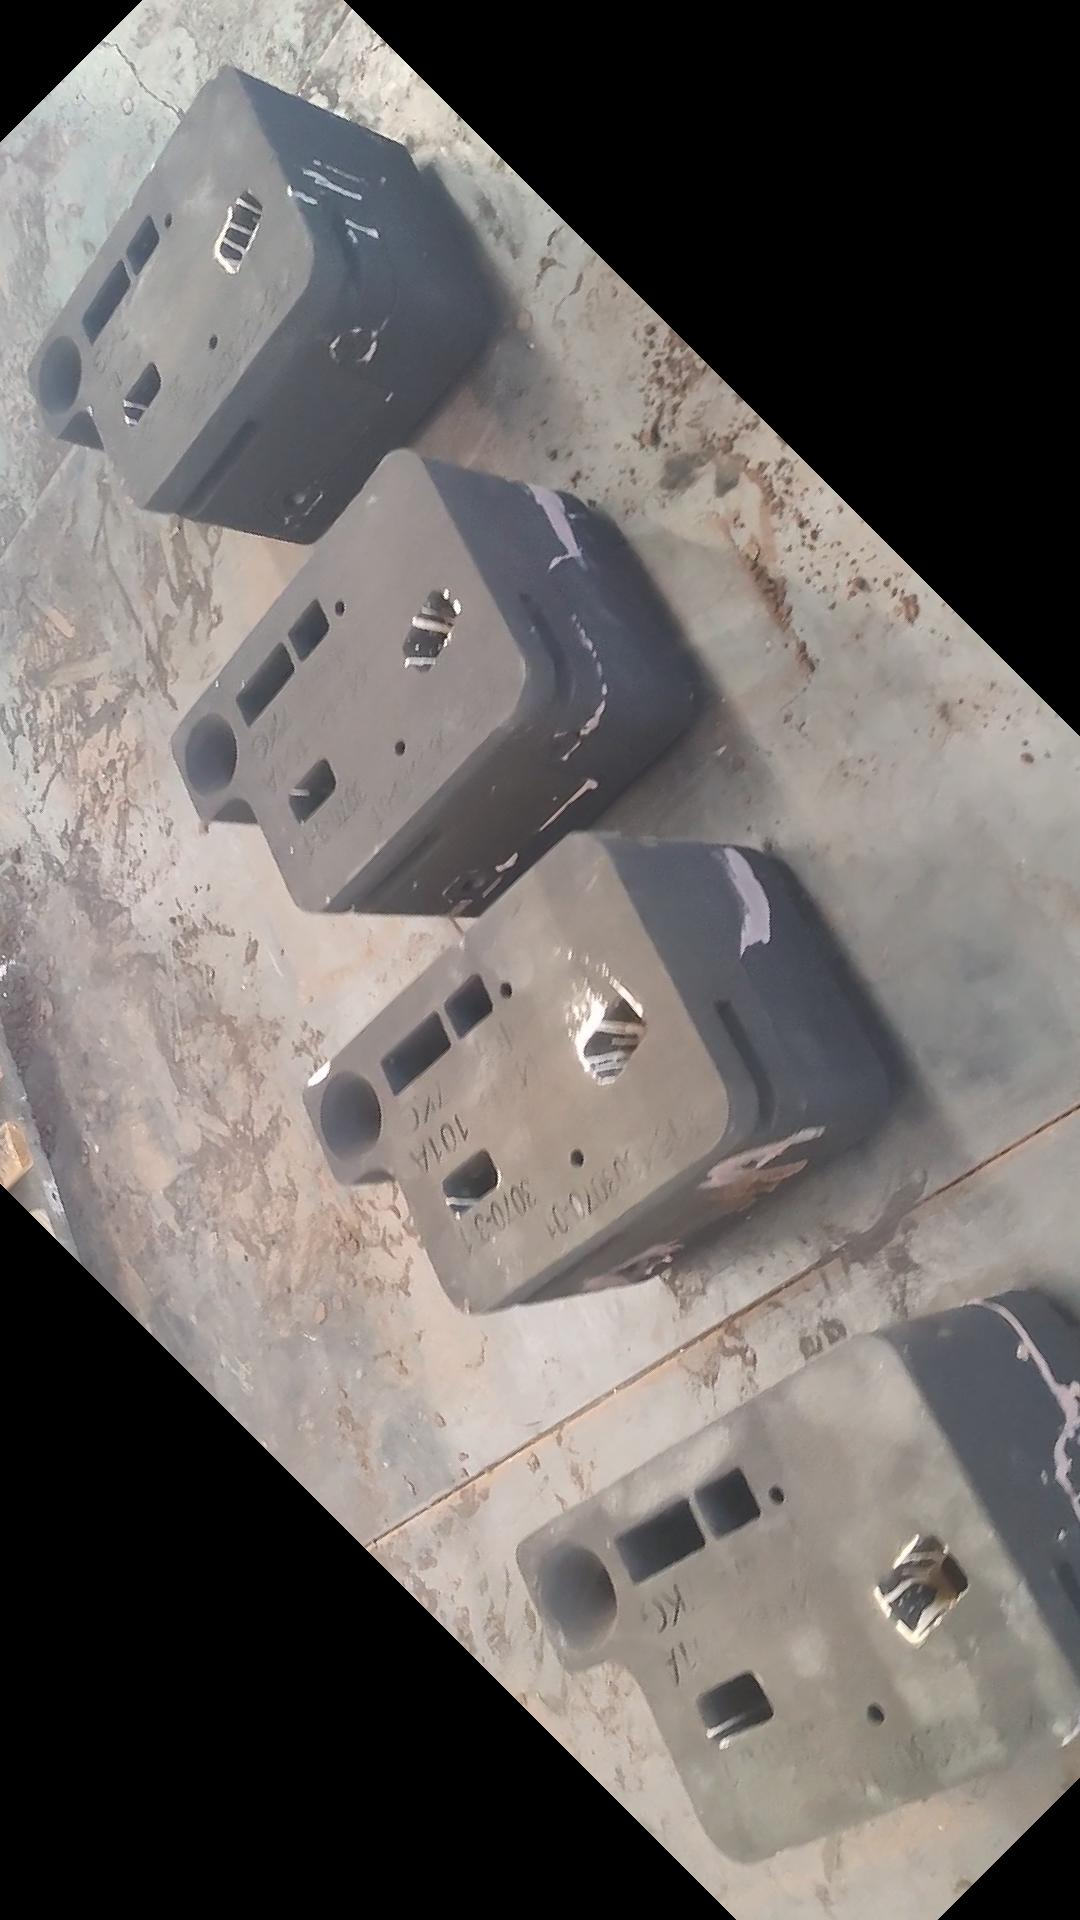pouring hole: (533, 1542, 617, 1656), (320, 1069, 382, 1163), (185, 713, 239, 796), (37, 338, 82, 413)
